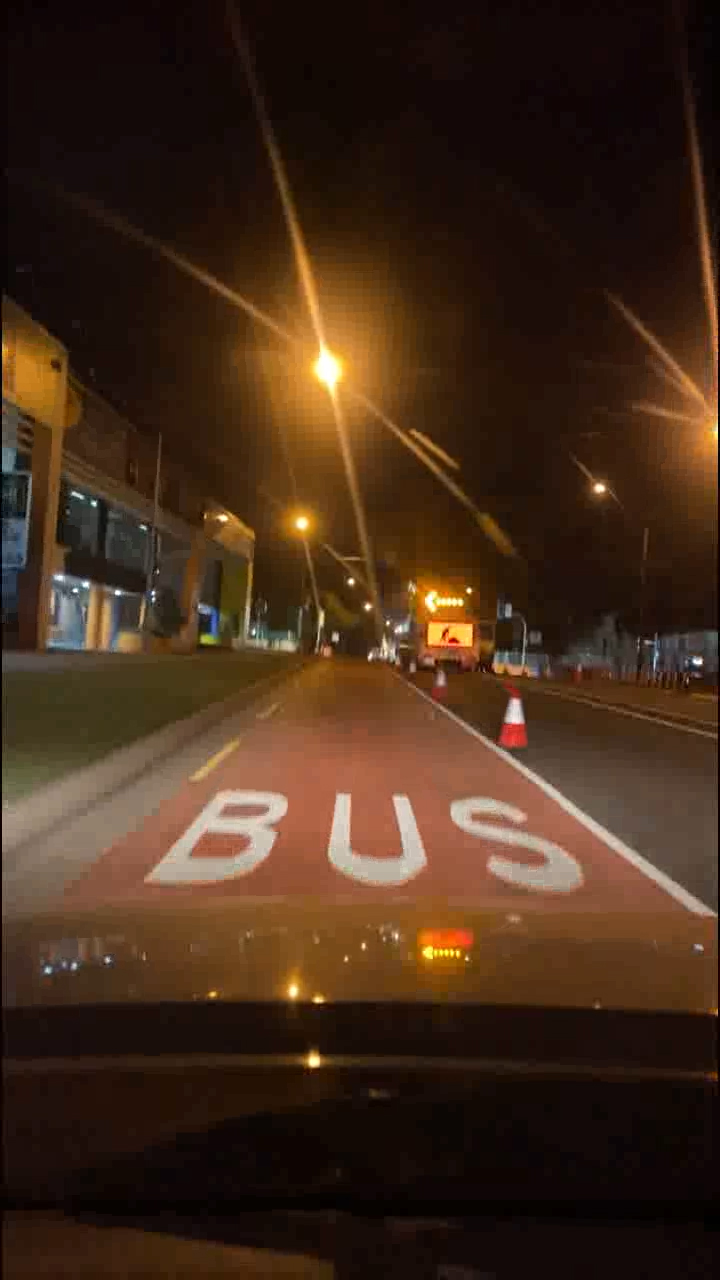road cone: (500, 686, 529, 763), (423, 659, 456, 704)
truck: (395, 572, 504, 663)
